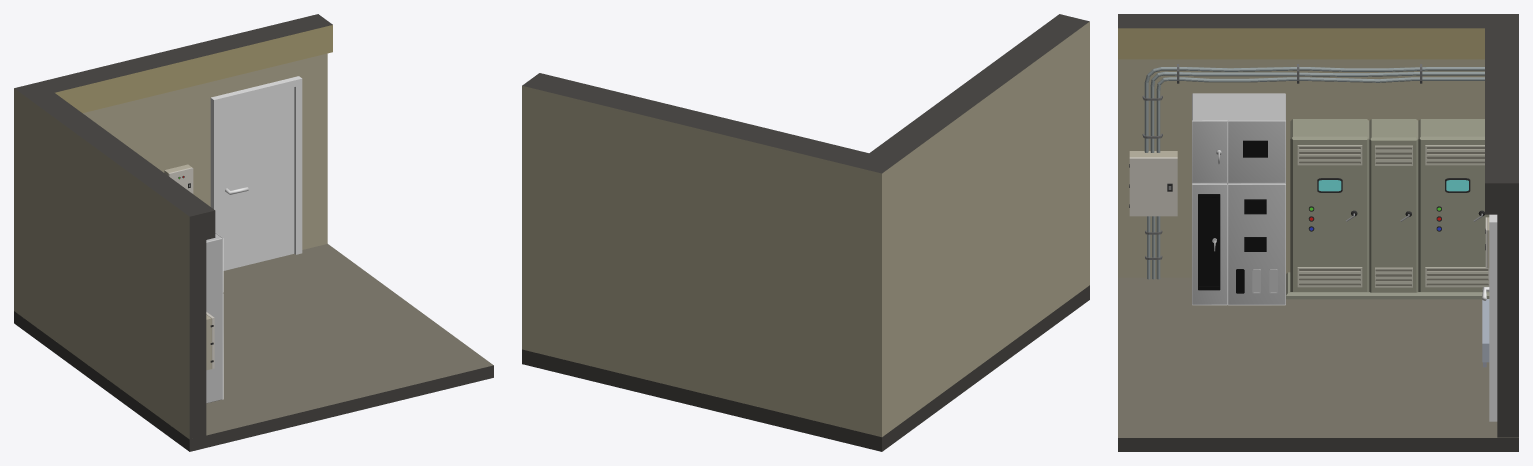
The model's file is electricity room.fbx.
3 views of the same model, side by side, from view 1: azimuth 30°, elevation 25°; view 2: azimuth 150°, elevation 25°; view 3: azimuth 270°, elevation 25° (orthographic). The views are drawn at different scales.
Parts seen in each view (by area): view 1: wall_1, floor, door, wall_2, electricty unit, unit_7, unit_5; view 2: wall_1, floor, wall_2; view 3: floor, wall_1, electricty unit, wall_2, unit_1, unit_3, unit_2, wire_4, unit_5, door, unit_4, wire_3 (+1 smaller).
Boxes of the visible parts, x1,y1,x2,y2 form: wall_1: [14, 14, 327, 439]; floor: [14, 244, 493, 451]; door: [210, 76, 302, 270]; wall_2: [40, 21, 332, 239]; electricty unit: [206, 232, 223, 403]; unit_7: [164, 164, 193, 193]; unit_5: [206, 312, 214, 370]; wall_1: [522, 16, 1089, 437]; floor: [522, 285, 1089, 451]; wall_2: [533, 14, 1069, 160]; floor: [1118, 277, 1518, 451]; wall_1: [1118, 14, 1518, 437]; electricty unit: [1192, 93, 1285, 305]; wall_2: [1118, 23, 1497, 214]; unit_1: [1290, 119, 1369, 291]; unit_3: [1418, 119, 1489, 291]; unit_2: [1369, 119, 1418, 292]; wire_4: [1142, 64, 1484, 152]; unit_5: [1129, 151, 1177, 216]; door: [1482, 214, 1497, 421]; unit_4: [1286, 272, 1489, 299]; wire_3: [1145, 216, 1162, 279].
Bounding box in the file's own units: 1671 × 1235 × 1671.
